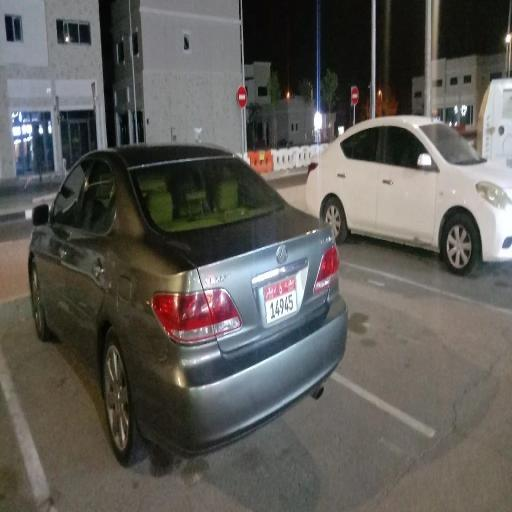license-plates: (264, 275, 297, 325)
